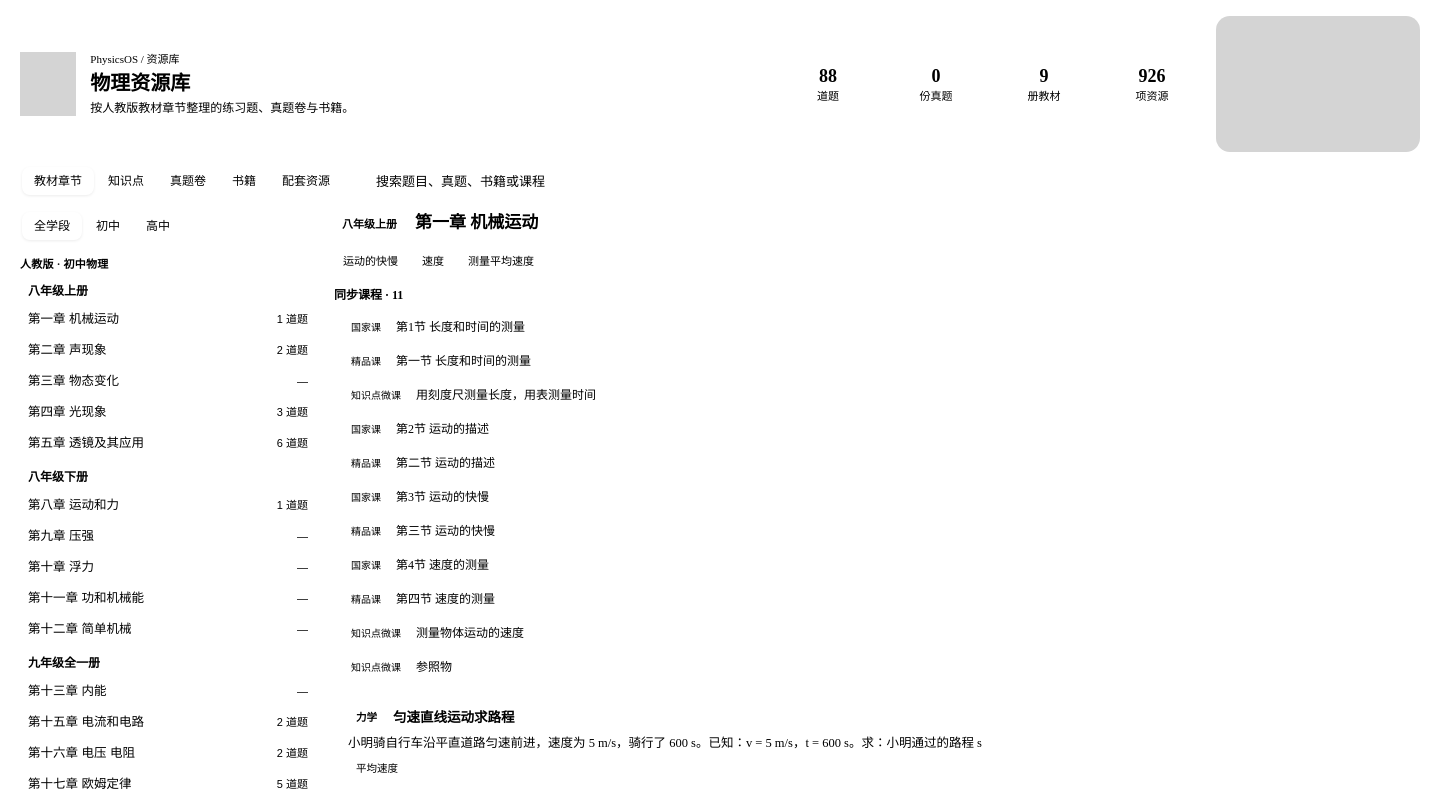
Scenario: LibraryWorkspace 真题卷库 › renders badges, region and school on verified paper cards only
Click the tab "真题卷". click: point(188, 181)
box: left=158, top=167, right=218, bottom=195
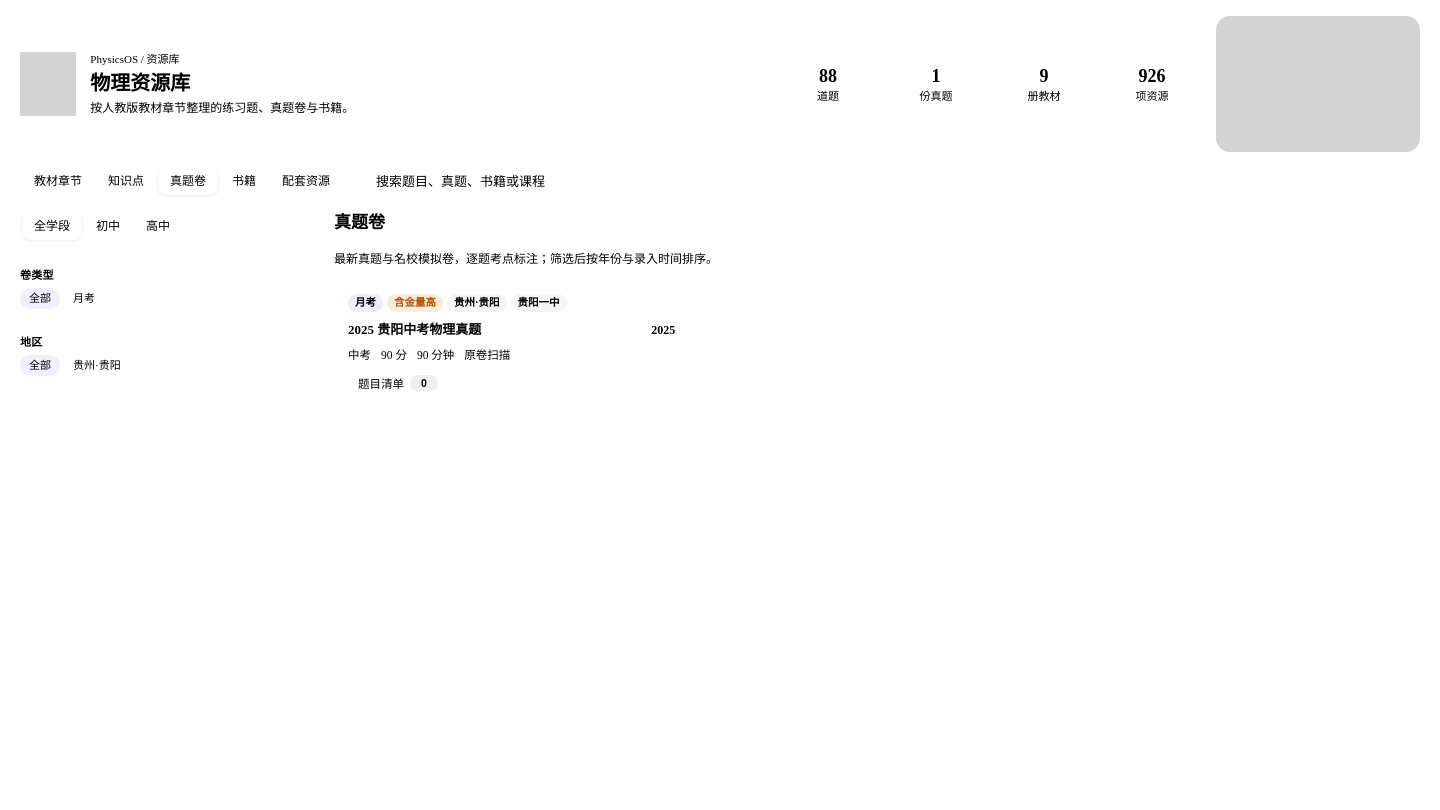
expect the text "最新真题与名校模拟卷，逐题考点标注；筛选后按年份与录入时间排序。" is shown: met, box left=334, top=252, right=718, bottom=266
expect the text "月考" is shown: met, box left=348, top=294, right=383, bottom=312
expect the text "含金量高" is shown: met, box left=387, top=294, right=443, bottom=312
